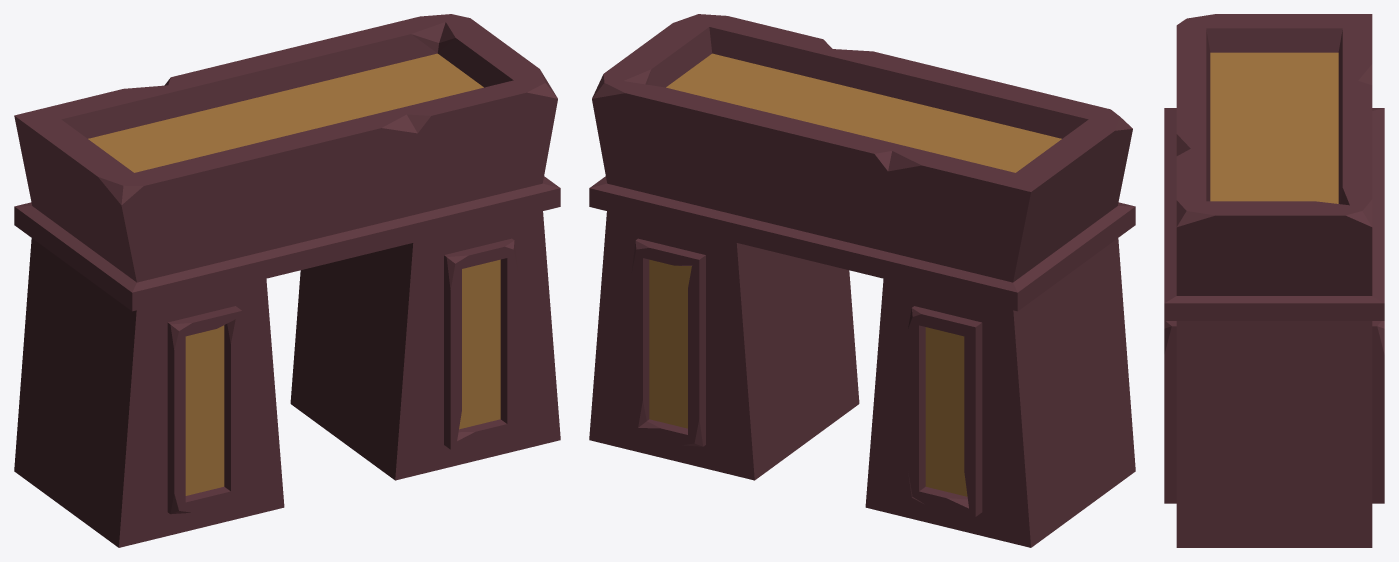
The model's file is egypt-gate.fbx.
The picture shows the model from 3 angles, left to right: view 1: azimuth 30°, elevation 25°; view 2: azimuth 150°, elevation 25°; view 3: azimuth 270°, elevation 25°; orthographic projection. The views are drawn at different scales.
Visible parts, largest first — view 1: egypt-gate; view 2: egypt-gate; view 3: egypt-gate.
Boxes of the visible parts, <box> form: egypt-gate: <box>14,14,560,547</box>; egypt-gate: <box>589,14,1135,547</box>; egypt-gate: <box>1164,14,1384,547</box>.
Bounding box in the file's own units: 19.5 × 15 × 9.
